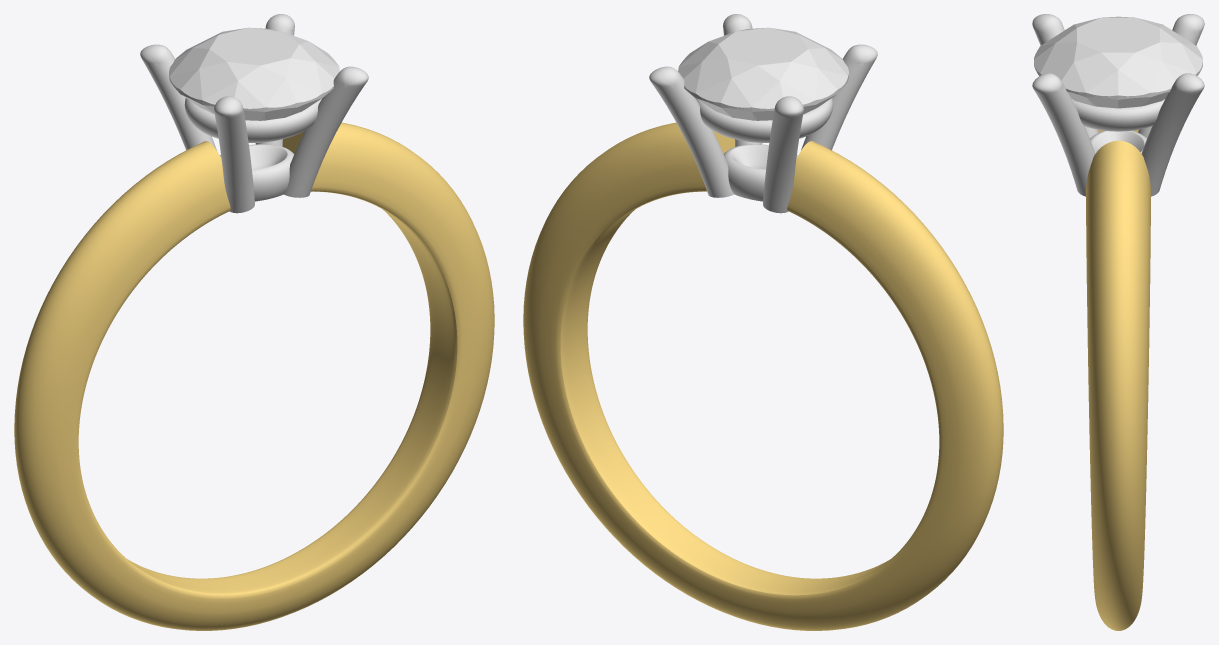
File: YG and PT selection ring.glb
3 renders of one model, left to right at view 1: azimuth 30°, elevation 25°; view 2: azimuth 150°, elevation 25°; view 3: azimuth 270°, elevation 25°, orthographic.
Visible parts, largest first — view 1: YG for metal config 3d model, PT for metal config 3d model, dia for metal config 3d model; view 2: YG for metal config 3d model, PT for metal config 3d model, dia for metal config 3d model; view 3: YG for metal config 3d model, dia for metal config 3d model, PT for metal config 3d model.
Part boxes in pixels (bbox=[...]): YG for metal config 3d model: bbox=[14, 122, 494, 630]; PT for metal config 3d model: bbox=[140, 14, 368, 213]; dia for metal config 3d model: bbox=[169, 27, 339, 120]; YG for metal config 3d model: bbox=[523, 122, 1003, 630]; PT for metal config 3d model: bbox=[649, 14, 877, 213]; dia for metal config 3d model: bbox=[678, 27, 848, 120]; YG for metal config 3d model: bbox=[1086, 129, 1150, 630]; dia for metal config 3d model: bbox=[1034, 16, 1202, 108]; PT for metal config 3d model: bbox=[1032, 14, 1204, 196].
Size of the model in its own units: 20.86 by 24.18 by 6.62.
